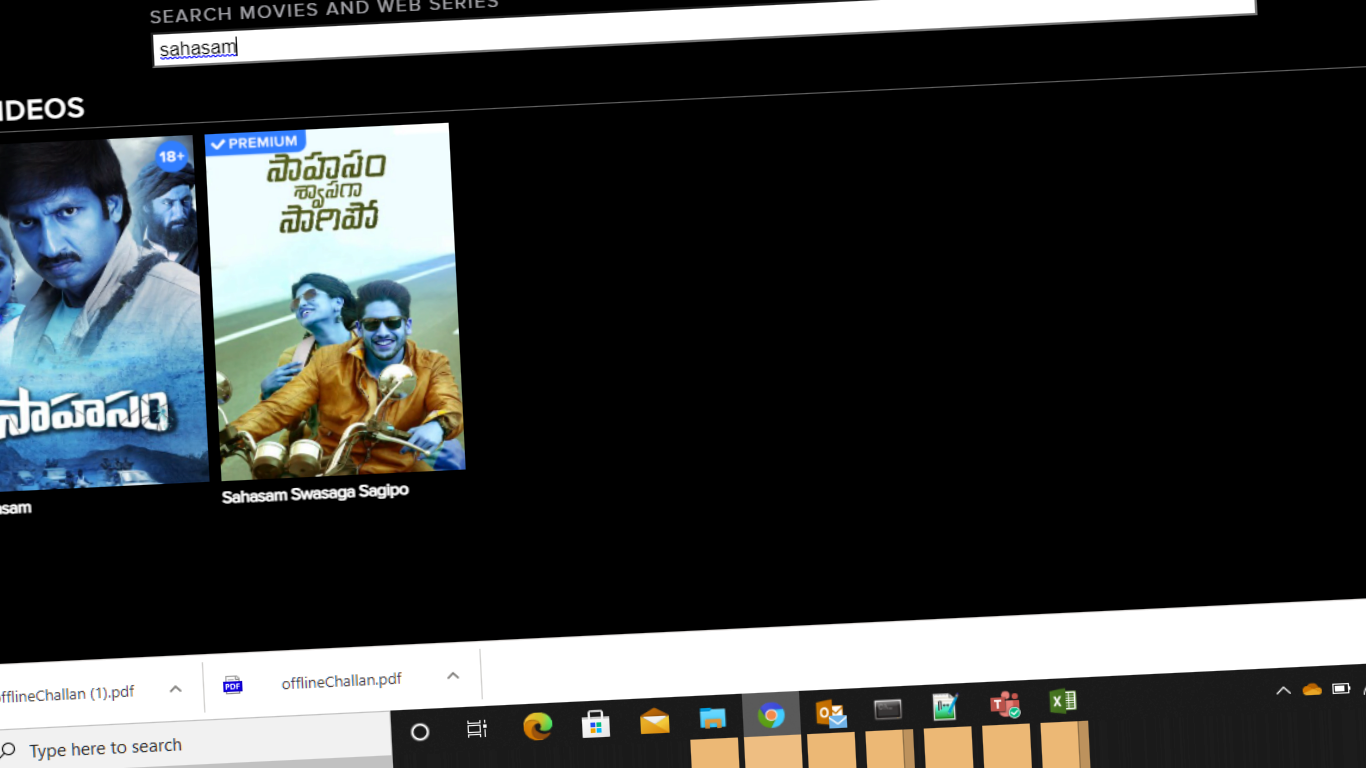resultsfound: (7, 57, 1292, 105)
searchtextbox: (141, 7, 1279, 67)
